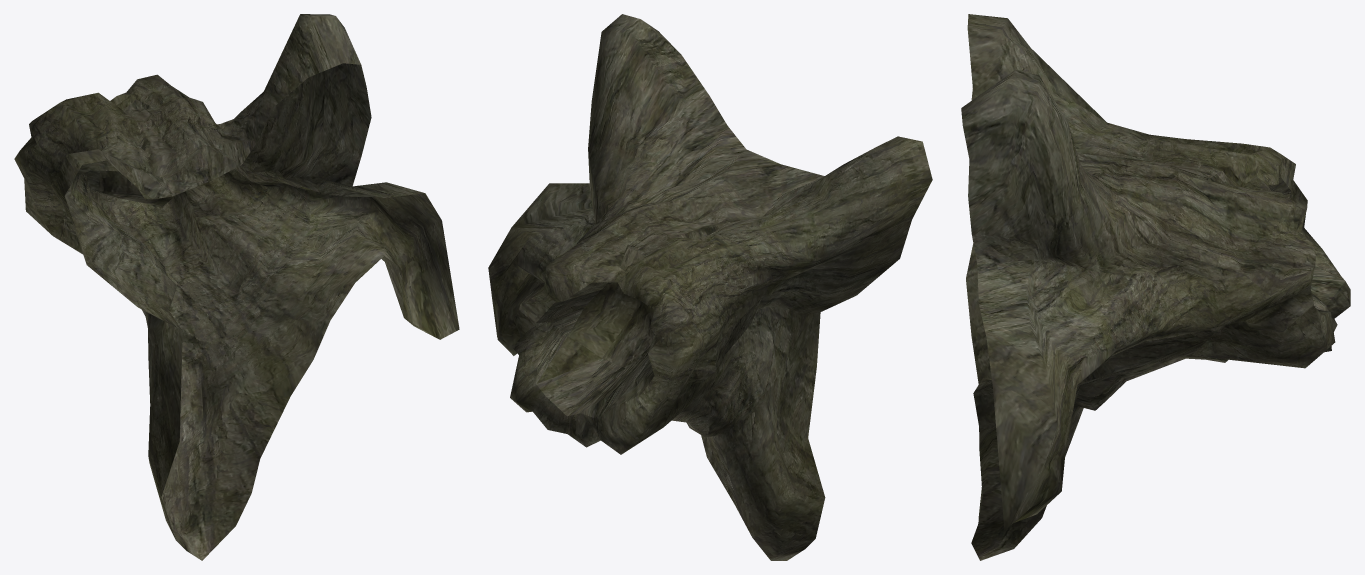
Rendered from TI_Old_Tree_09.fbx.
The picture shows the model from 3 angles, left to right: view 1: azimuth 30°, elevation 25°; view 2: azimuth 150°, elevation 25°; view 3: azimuth 270°, elevation 25°; orthographic projection. The views are drawn at different scales.
Parts seen in each view (by area): view 1: TI_Old_Tree_09; view 2: TI_Old_Tree_09; view 3: TI_Old_Tree_09.
Boxes of the visible parts, x1=… form: TI_Old_Tree_09: x1=14, y1=14, x2=459, y2=560; TI_Old_Tree_09: x1=488, y1=14, x2=932, y2=560; TI_Old_Tree_09: x1=961, y1=14, x2=1350, y2=560.
Bounding box in the file's own units: 3.19 × 3.76 × 2.38.
